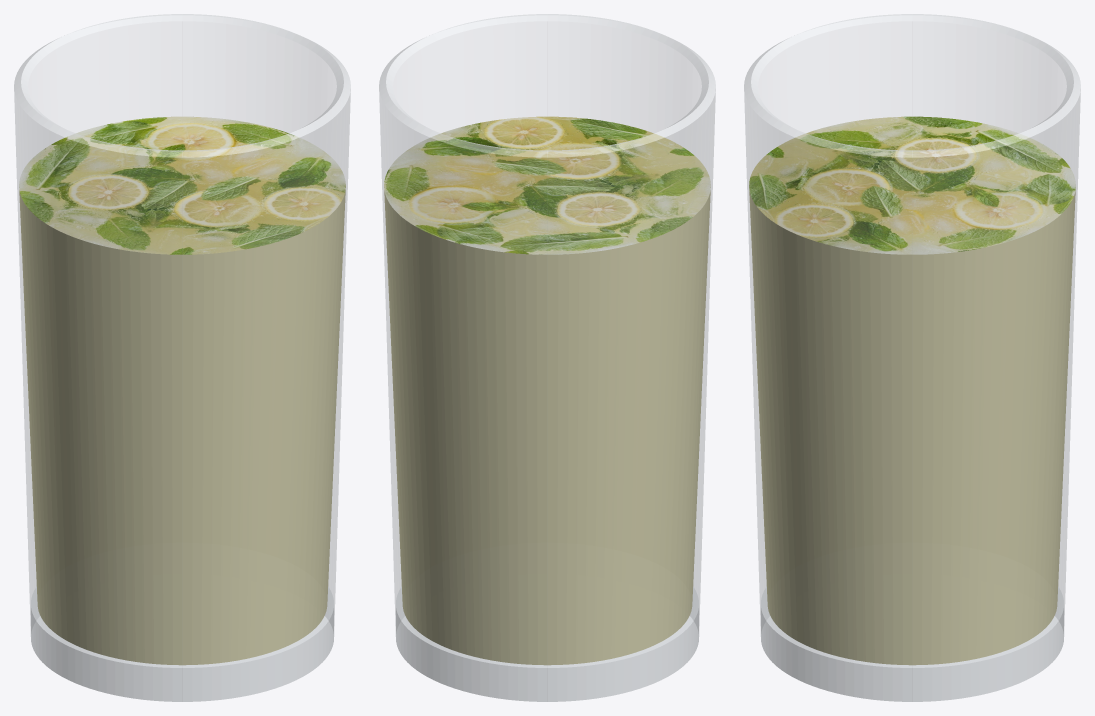
The model's file is limonad.glb.
3 views of the same model, side by side, from view 1: azimuth 30°, elevation 25°; view 2: azimuth 150°, elevation 25°; view 3: azimuth 270°, elevation 25° (orthographic).
Parts seen in each view (by area): view 1: limonad_0, limonad_3, limonad_4, limonad_2, limonad_1; view 2: limonad_0, limonad_3, limonad_4, limonad_2, limonad_1; view 3: limonad_0, limonad_3, limonad_4, limonad_2, limonad_1.
Boxes of the visible parts, bbox=[...] form: limonad_0: bbox=[14, 21, 350, 701]; limonad_3: bbox=[19, 116, 345, 665]; limonad_4: bbox=[19, 116, 345, 254]; limonad_2: bbox=[31, 587, 333, 701]; limonad_1: bbox=[14, 14, 350, 157]; limonad_0: bbox=[379, 21, 715, 701]; limonad_3: bbox=[384, 116, 710, 665]; limonad_4: bbox=[384, 116, 710, 254]; limonad_2: bbox=[396, 587, 698, 701]; limonad_1: bbox=[379, 14, 715, 157]; limonad_0: bbox=[744, 21, 1080, 701]; limonad_3: bbox=[749, 116, 1075, 665]; limonad_4: bbox=[749, 116, 1075, 254]; limonad_2: bbox=[761, 587, 1063, 701]; limonad_1: bbox=[744, 14, 1080, 157].
Bounding box in the file's own units: 0.072 × 0.131 × 0.072.
Materials: 5 (1 with a texture image).
